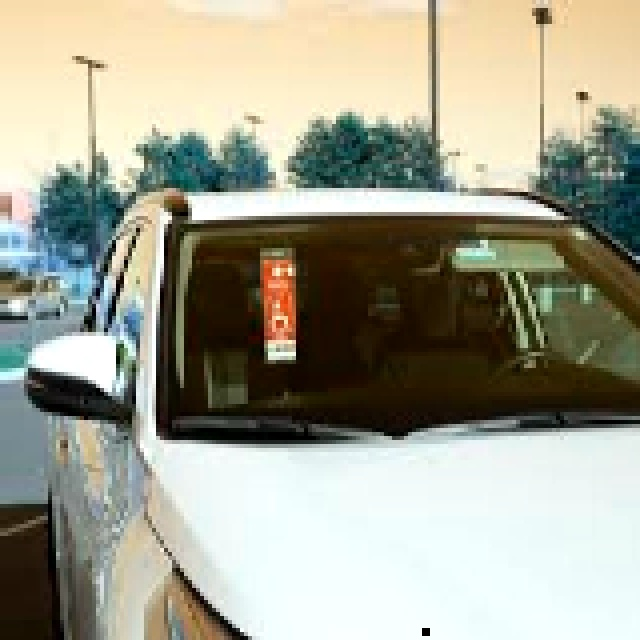ISA: (267, 298, 289, 335)
